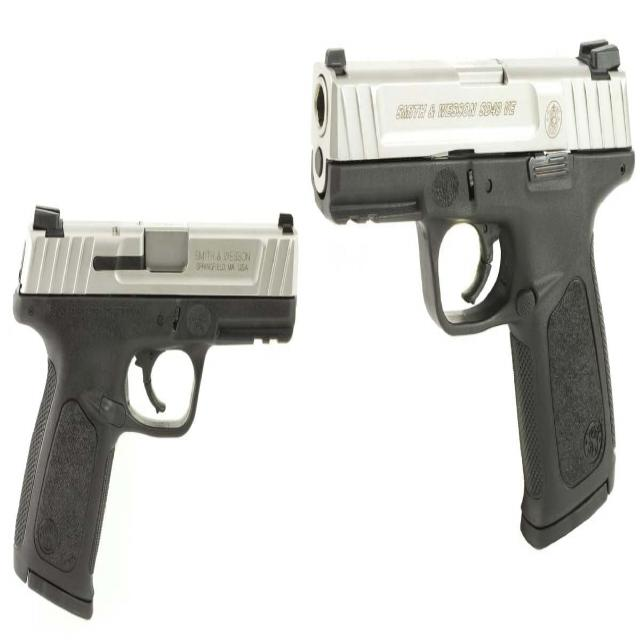gun: (310, 40, 634, 548), (10, 200, 296, 620)
